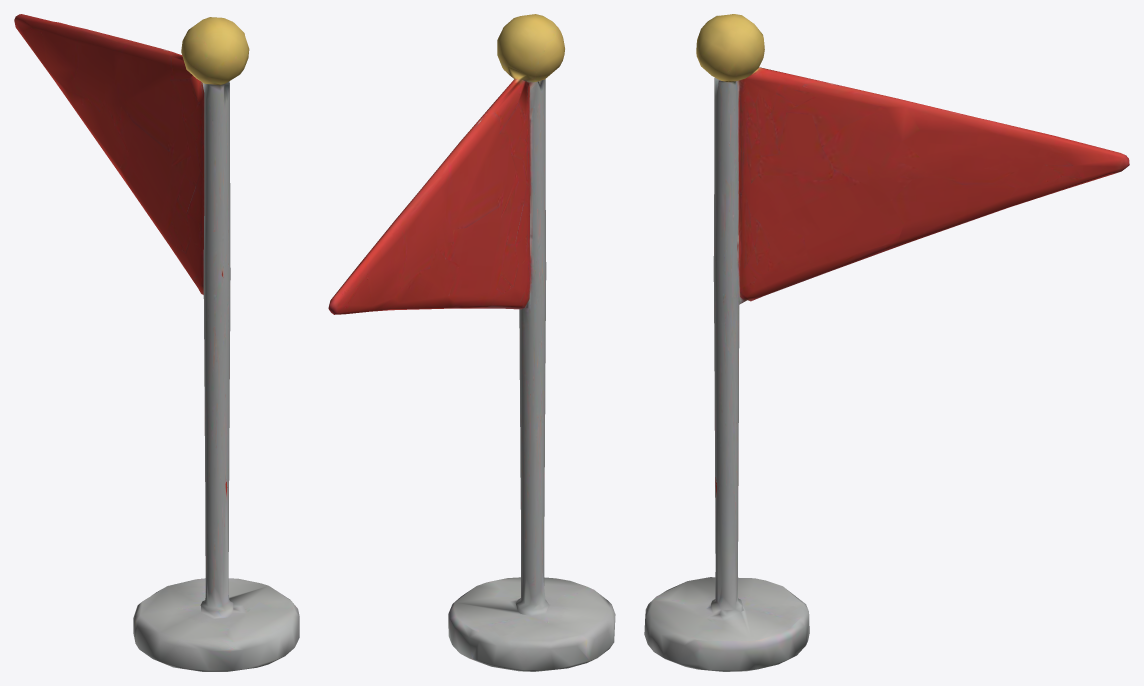
File: flag.glb
3 renders of one model, left to right at view 1: azimuth 30°, elevation 25°; view 2: azimuth 150°, elevation 25°; view 3: azimuth 270°, elevation 25°, orthographic.
Visible parts, largest first — view 1: tripo_node_7e533c45-c8cc-4256-992b-367b0a99342c; view 2: tripo_node_7e533c45-c8cc-4256-992b-367b0a99342c; view 3: tripo_node_7e533c45-c8cc-4256-992b-367b0a99342c.
Part boxes in pixels (<box>): tripo_node_7e533c45-c8cc-4256-992b-367b0a99342c: <box>14,14,299,671</box>; tripo_node_7e533c45-c8cc-4256-992b-367b0a99342c: <box>328,14,615,671</box>; tripo_node_7e533c45-c8cc-4256-992b-367b0a99342c: <box>644,14,1129,671</box>.
Bounding box in the file's own units: 0.2439 × 0.9996 × 0.707.
1 material, 1 textured.
